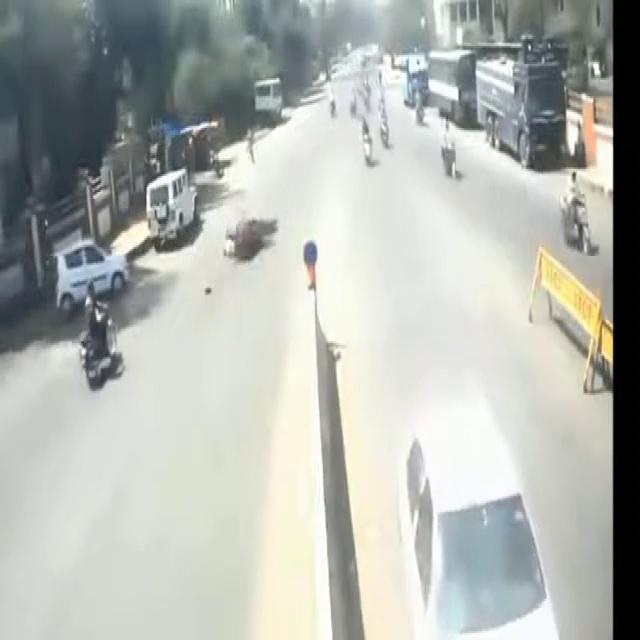accident: (214, 189, 302, 288)
